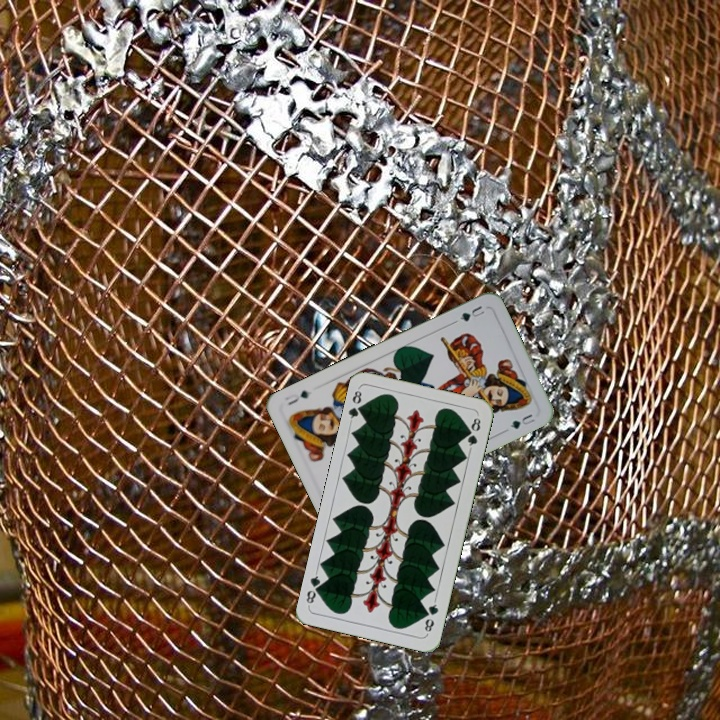G8: (345, 385, 367, 425), (420, 596, 441, 636)
GU: (450, 301, 487, 326)
